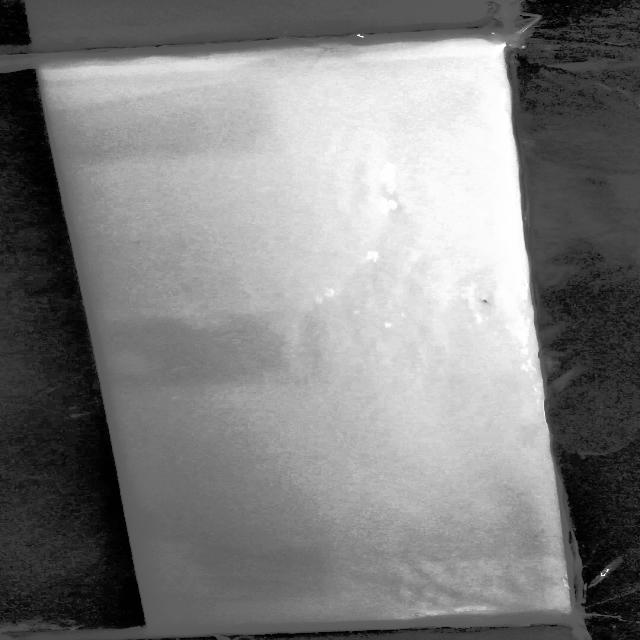shrimp: (473, 294, 499, 310)
